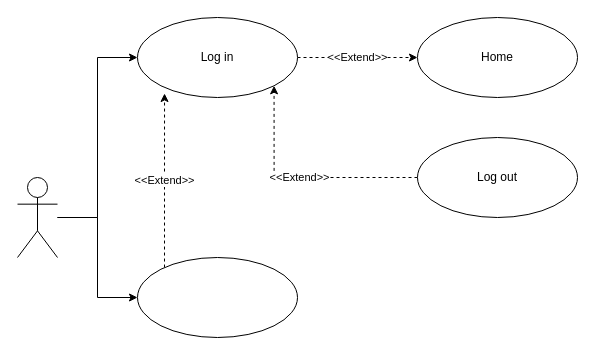
Image size: 595x355. Some labels were removed from this diagram. The shapes that lost their labels are listed below. From the top down, each one's centre as x and y in pixels, then its label:
At [37,217]: "User".
At [217,297]: "Register".
